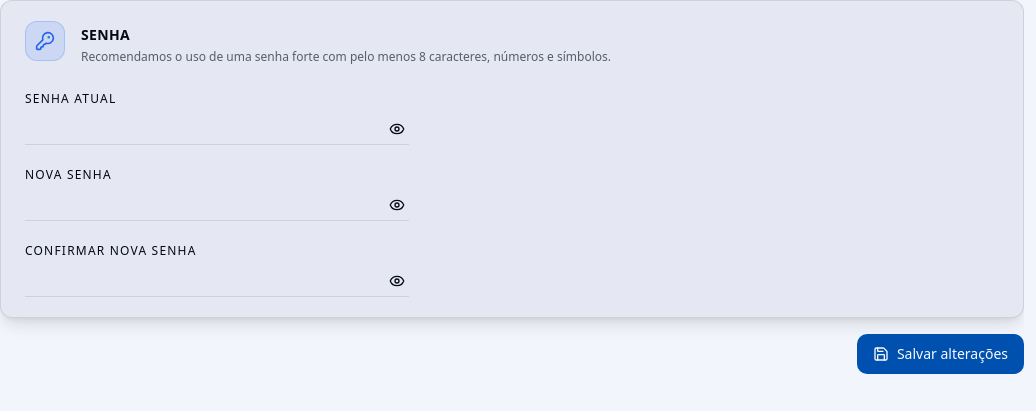
it: Console TabSecurity — cabeçalho do bloco › exige no mínimo 8 caracteres na nova senha (unificado com o lado user)
Type "1234567" into the password field named "newPassword" at (217, 206), box [25,192,409,221]
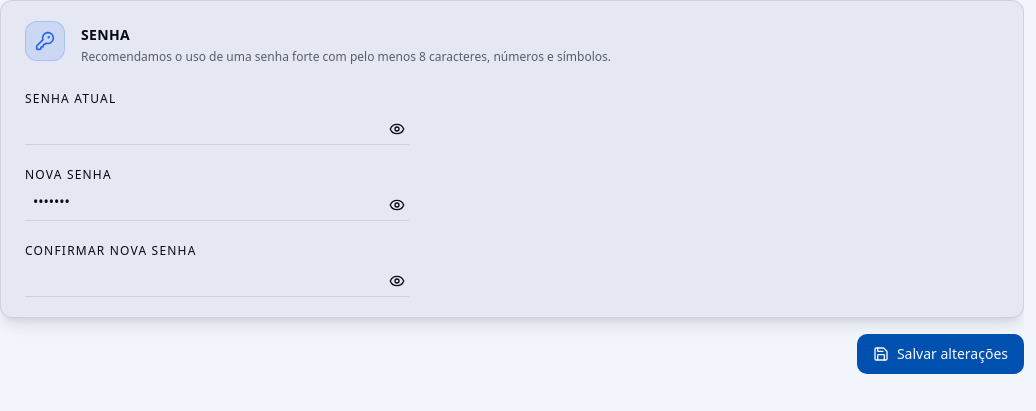
Leave the password field named "newPassword", box [25,192,409,221]
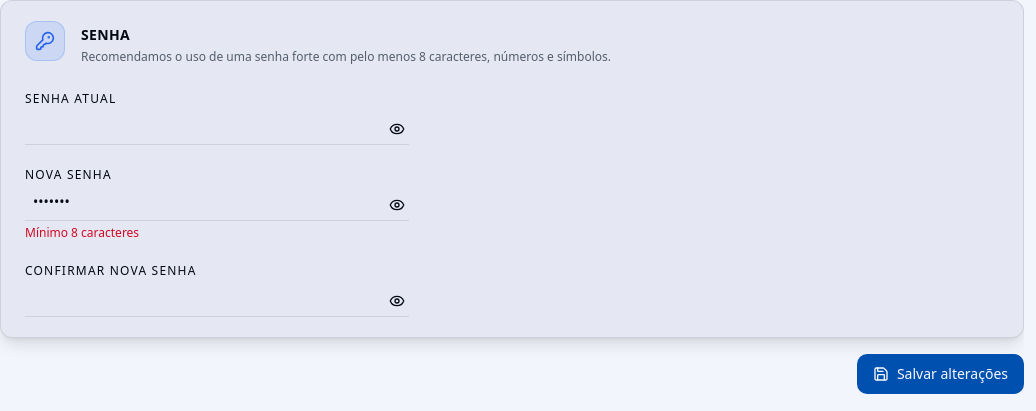
Result: the text "Mínimo 8 caracteres" is shown at [25,224,139,241]
